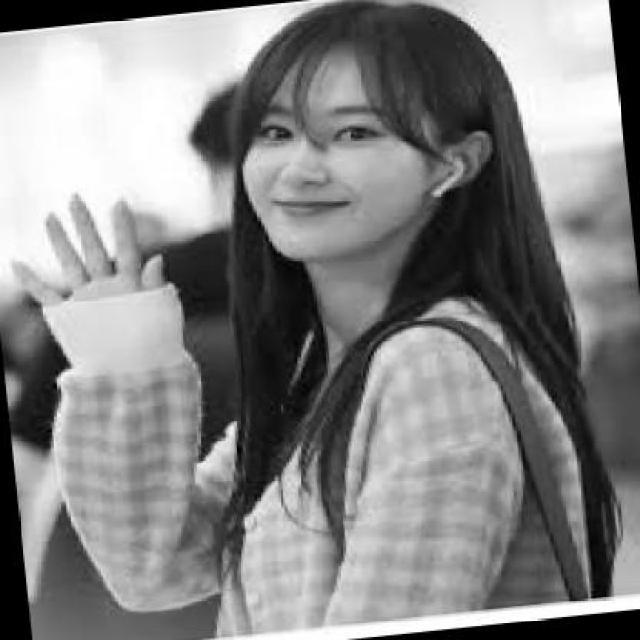earphone: (427, 140, 496, 204)
